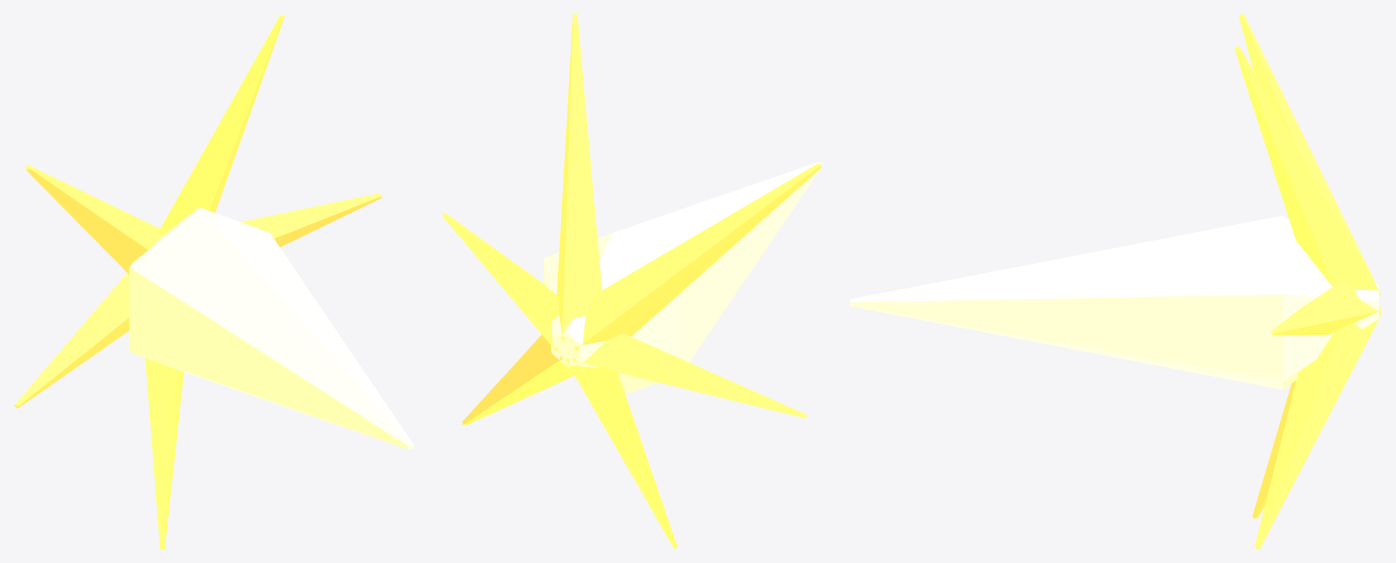
File: flash.glb
3 renders of one model, left to right at view 1: azimuth 30°, elevation 25°; view 2: azimuth 150°, elevation 25°; view 3: azimuth 270°, elevation 25°, orthographic. The views are drawn at different scales.
Visible parts, largest first — view 1: MuzzleFlash_A; view 2: MuzzleFlash_A; view 3: MuzzleFlash_A.
Part boxes in pixels (x1,y1,x2,y2): MuzzleFlash_A: [14, 14, 413, 548]; MuzzleFlash_A: [442, 14, 821, 548]; MuzzleFlash_A: [850, 14, 1381, 548].
Bounding box in the file's own units: 0.4578 × 0.6046 × 0.553.
